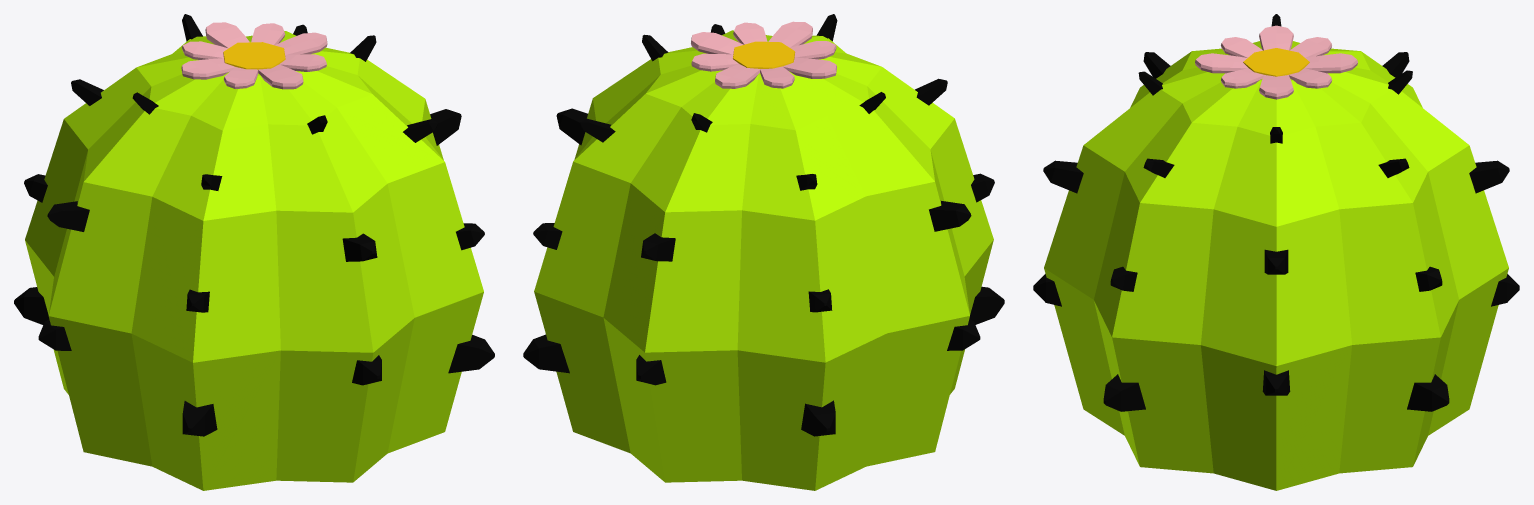
The model's file is Cardon06_00Brazos_Flor_Rosada.fbx.
The picture shows the model from 3 angles, left to right: view 1: azimuth 30°, elevation 25°; view 2: azimuth 150°, elevation 25°; view 3: azimuth 270°, elevation 25°; orthographic projection. The views are drawn at different scales.
Parts seen in each view (by area): view 1: Cactus, Espinas, Flor_Rosada; view 2: Cactus, Espinas, Flor_Rosada; view 3: Cactus, Espinas, Flor_Rosada.
Part boxes in pixels (x1,y1,x2,y2): Cactus: [25, 31, 483, 490]; Espinas: [14, 14, 494, 436]; Flor_Rosada: [181, 22, 327, 89]; Cactus: [534, 30, 993, 490]; Espinas: [523, 14, 1004, 436]; Flor_Rosada: [691, 21, 836, 88]; Cactus: [1044, 41, 1508, 490]; Espinas: [1033, 14, 1519, 411]; Flor_Rosada: [1195, 25, 1357, 99].
Size of the model in its own units: 47.77 by 37.93 by 47.77.
